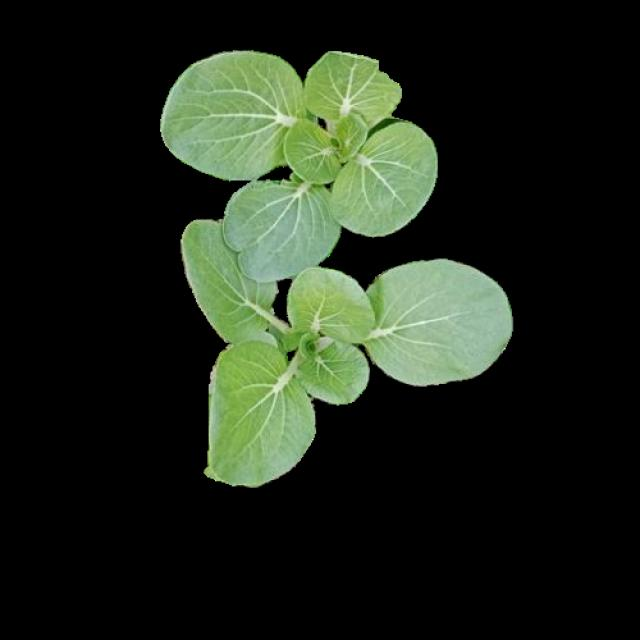healthy: (178, 215, 511, 484), (161, 47, 434, 278)
not-mature: (181, 218, 514, 487), (164, 50, 436, 280)
